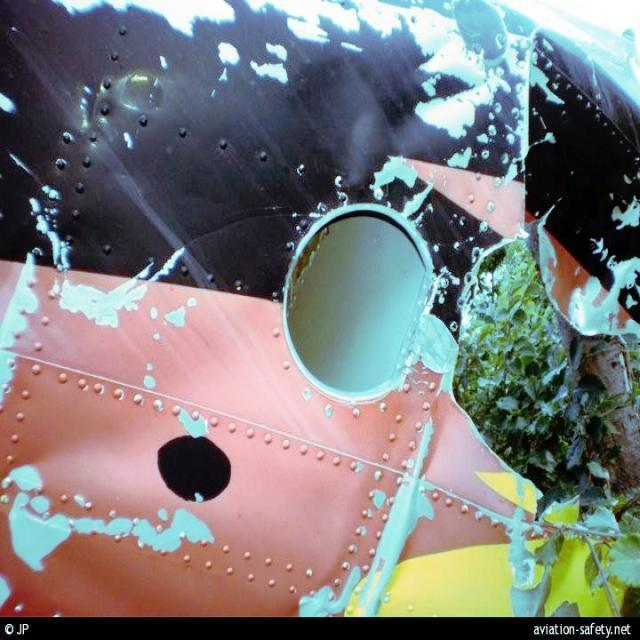dent: (299, 61, 449, 181), (5, 413, 150, 498)
